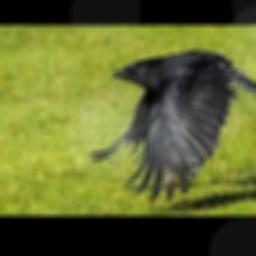Crow: (88, 50, 256, 202)
